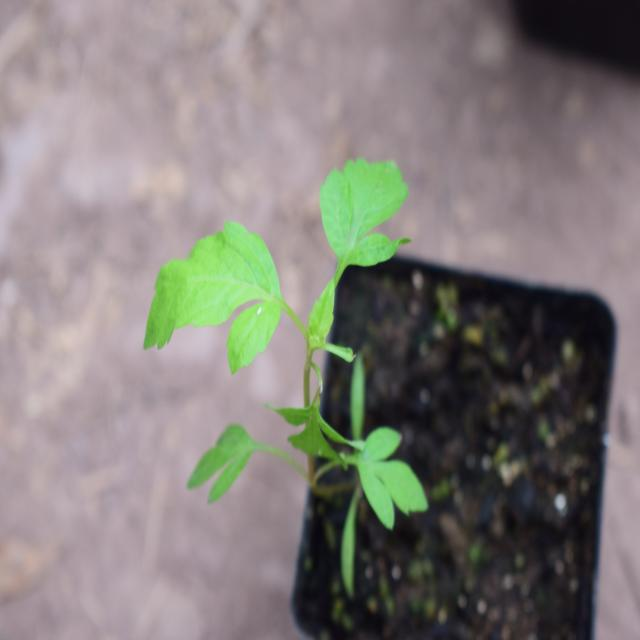Bidens pilosa: (123, 140, 458, 548)
